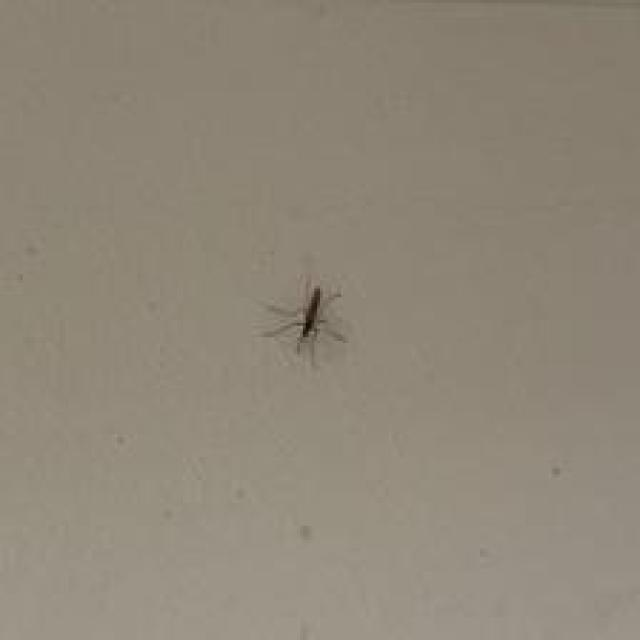Culex: (260, 274, 349, 369)
